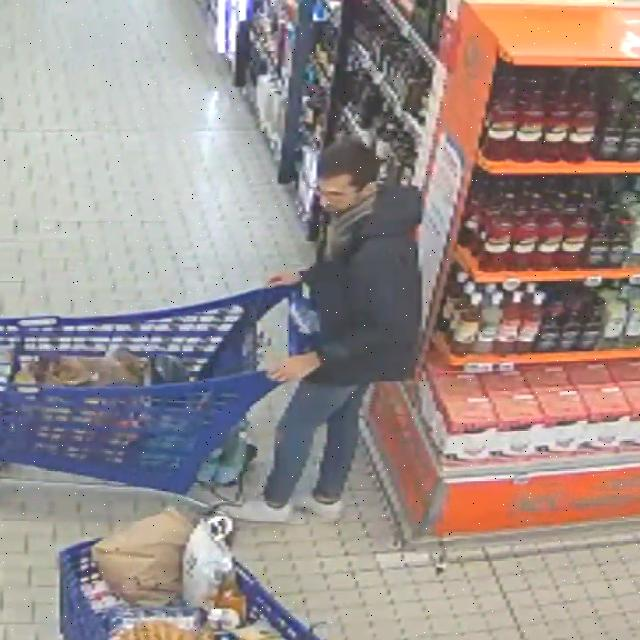hands: (268, 353, 320, 383), (268, 271, 300, 286)
person: (228, 139, 421, 521)
